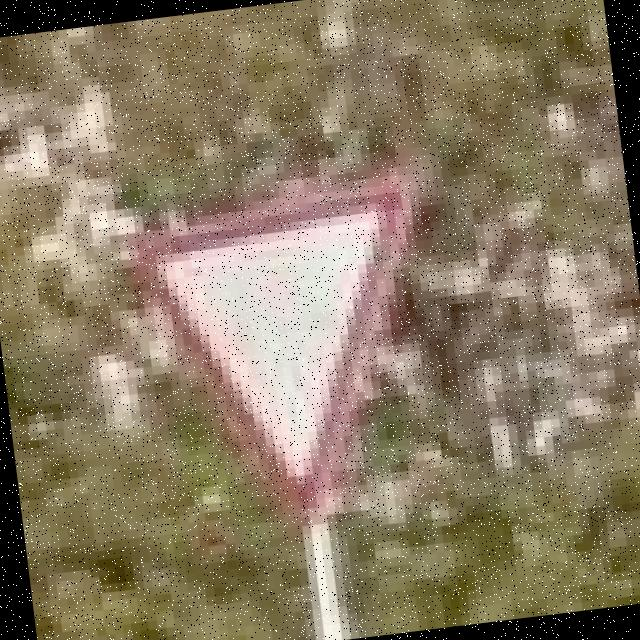Ustap pierwszenstwa: (123, 172, 456, 534)
